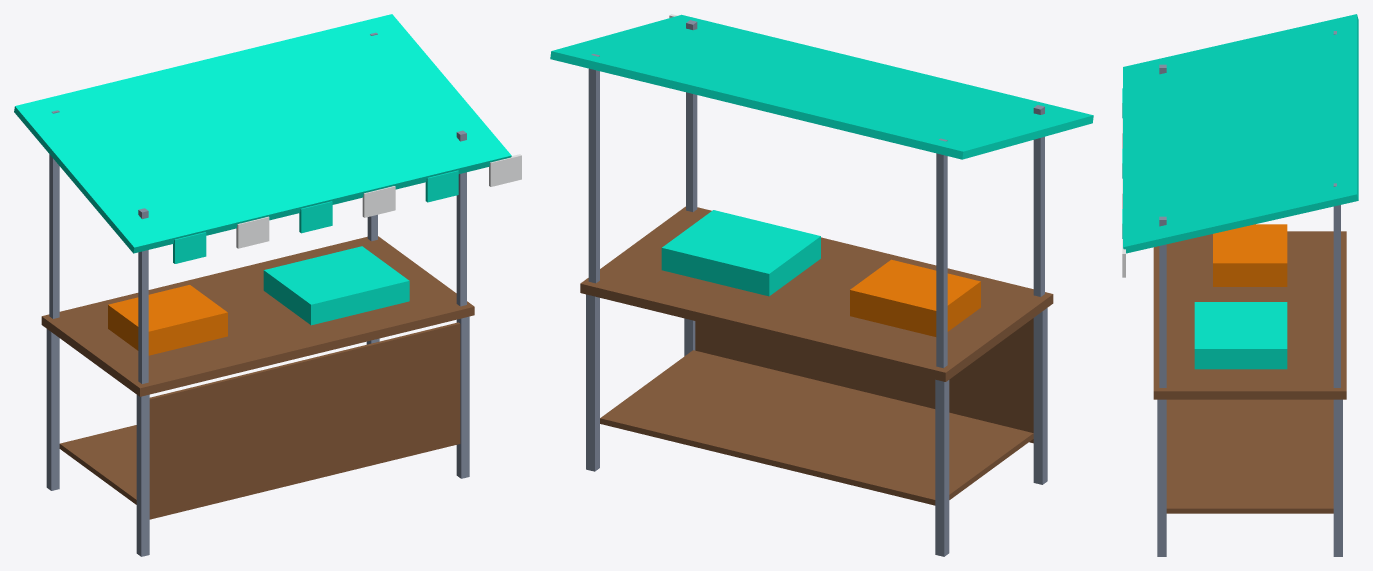
File: stage_chodem_kiosk_xanh.fbx
3 views of the same model, side by side, from view 1: azimuth 30°, elevation 25°; view 2: azimuth 150°, elevation 25°; view 3: azimuth 270°, elevation 25° (orthographic). The views are drawn at different scales.
Parts seen in each view (by area): view 1: stage_chodem_kiosk_xanh; view 2: stage_chodem_kiosk_xanh; view 3: stage_chodem_kiosk_xanh.
Part boxes in pixels (<box>): stage_chodem_kiosk_xanh: <box>14,14,521,556</box>; stage_chodem_kiosk_xanh: <box>550,14,1093,556</box>; stage_chodem_kiosk_xanh: <box>1122,14,1358,556</box>.
Size of the model in its own units: 2.36 by 2.23 by 1.28.
